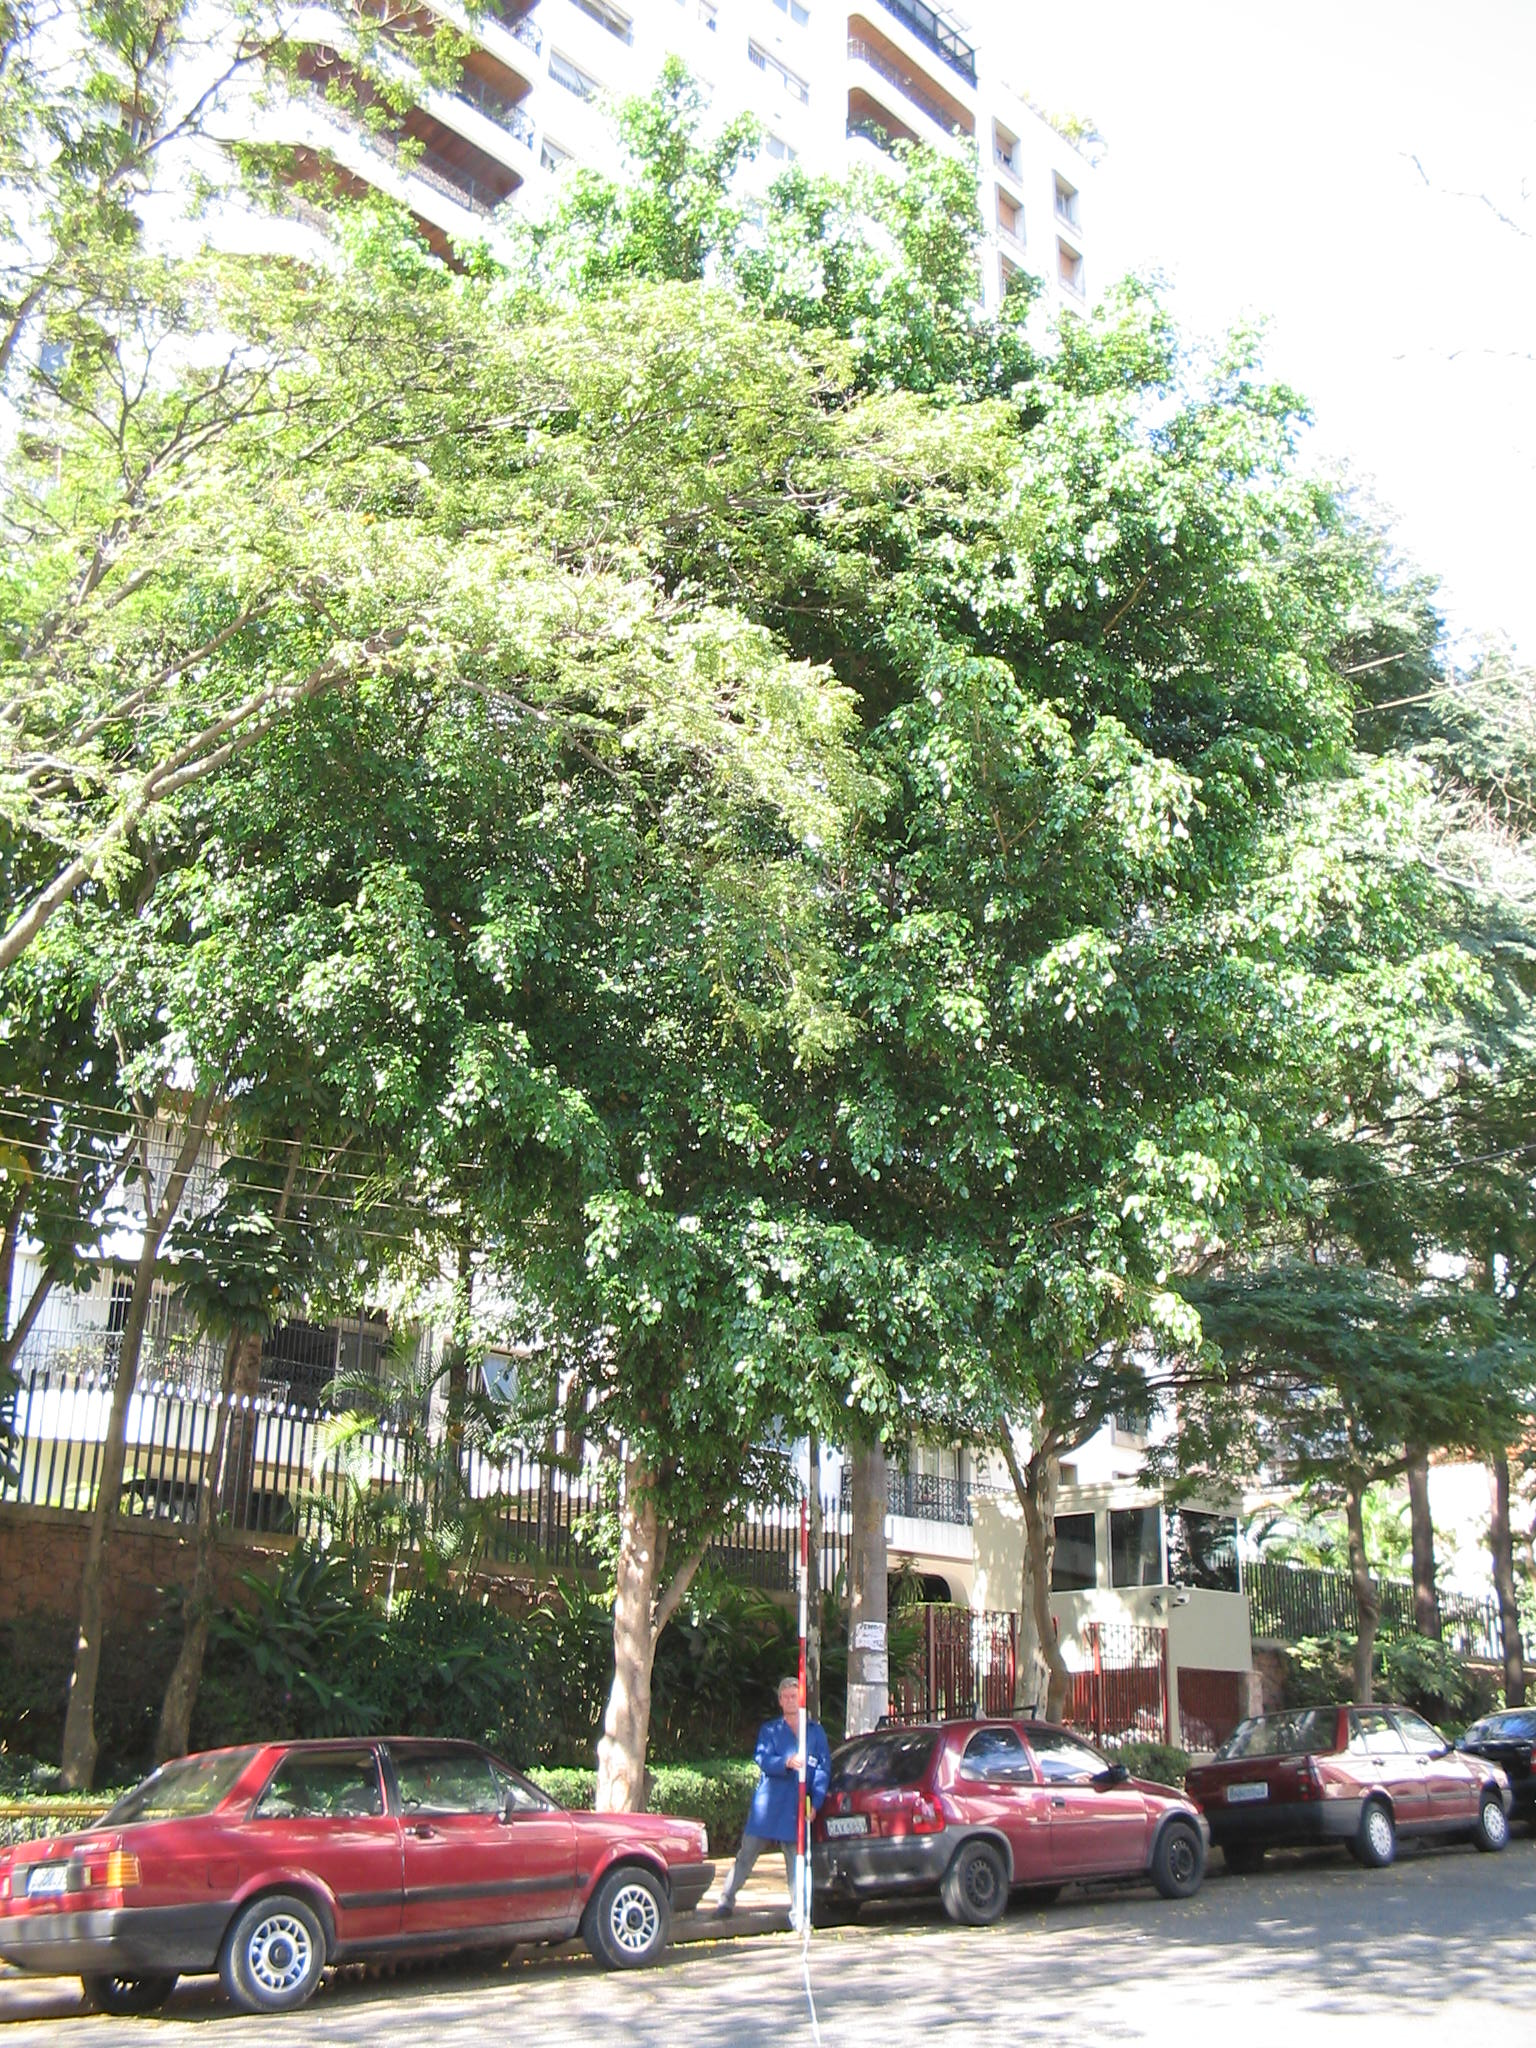crown: (166, 403, 1412, 1534)
stem: (549, 1616, 686, 1940)
stick: (766, 1487, 829, 1942)
tree: (158, 395, 1430, 1946)
